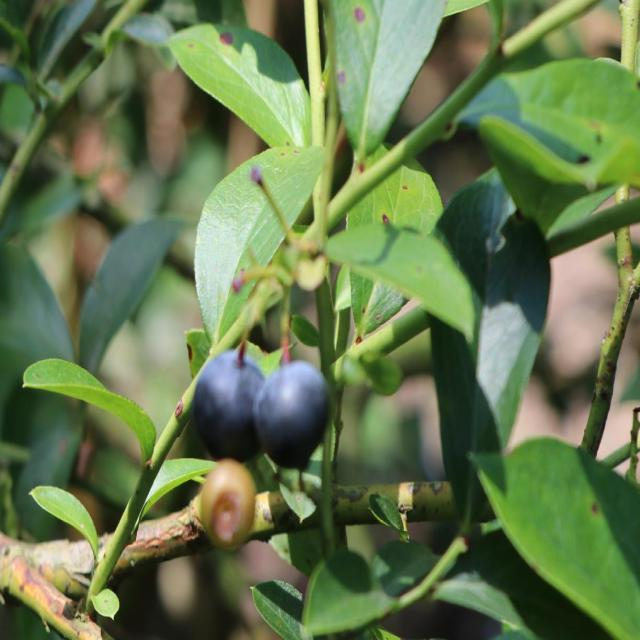blueberry: (257, 358, 333, 468), (193, 351, 265, 464)
blueberry-unripe: (197, 456, 258, 550)
